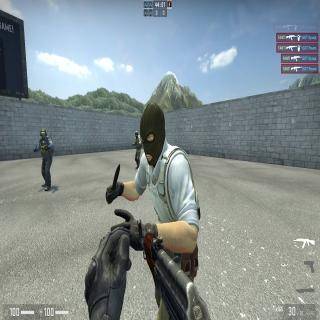CT-Body: (40, 129, 52, 191), (134, 131, 142, 168)
CT-Head: (40, 129, 46, 139), (134, 131, 138, 139)
T-Body: (136, 104, 195, 288)
T-Head: (140, 103, 165, 165)
